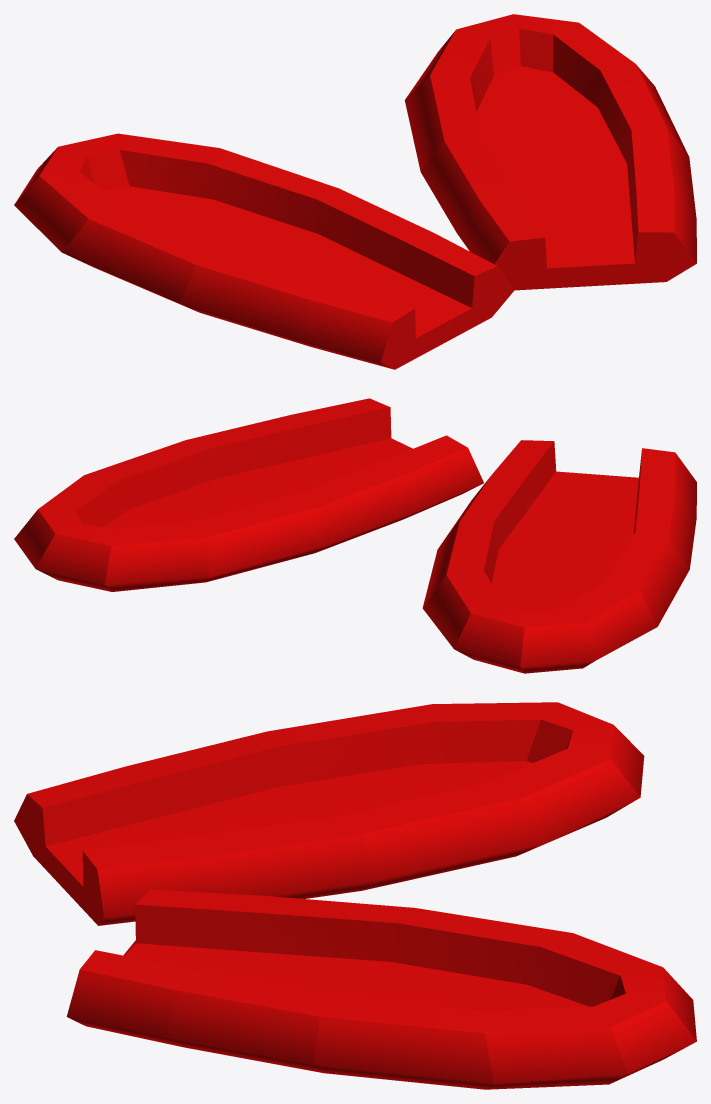
The model's file is Asset_BunnyEars.glb.
3 renders of one model, top to bottom at view 1: azimuth 30°, elevation 25°; view 2: azimuth 150°, elevation 25°; view 3: azimuth 270°, elevation 25°, orthographic. The views are drawn at different scales.
Visible parts, largest first — view 1: Asset_BunnyEars; view 2: Asset_BunnyEars; view 3: Asset_BunnyEars.
Boxes of the visible parts, x1,y1,x2,y2 form: Asset_BunnyEars: (14, 14, 696, 369); Asset_BunnyEars: (14, 398, 696, 673); Asset_BunnyEars: (14, 702, 696, 1089).
Size of the model in its own units: 0.483 by 0.0503 by 0.3918.
